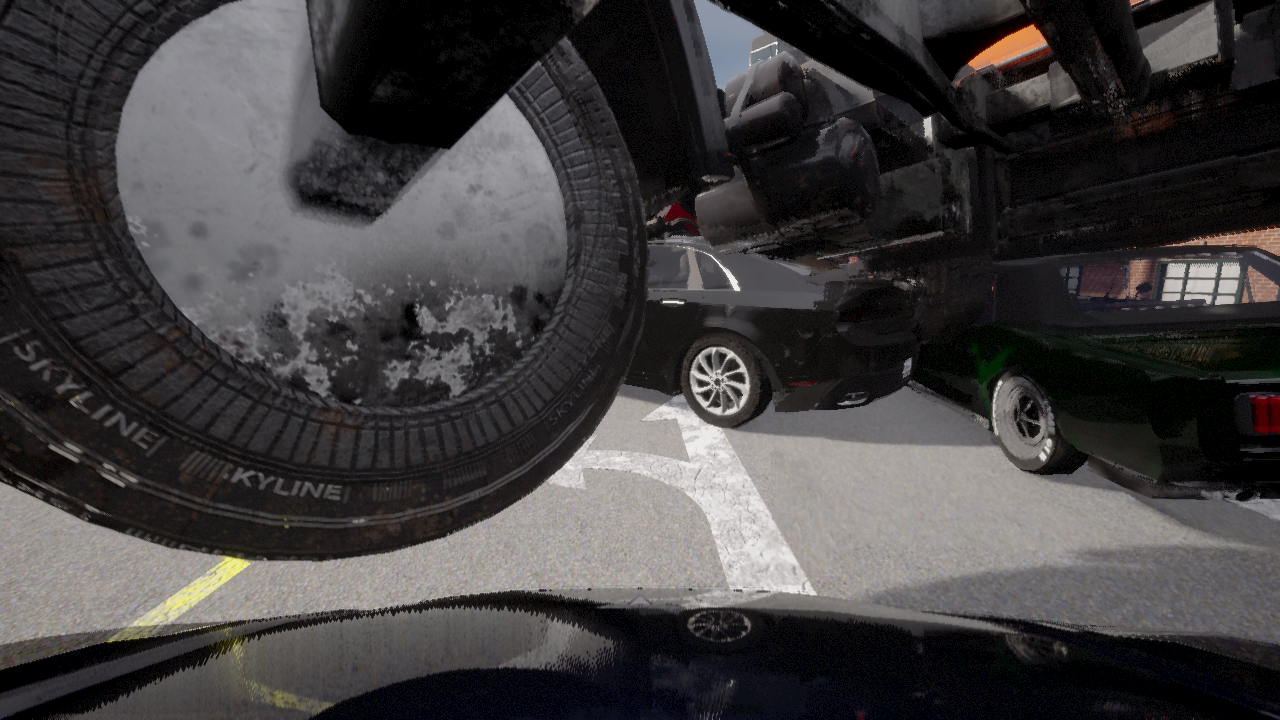cyclist: (0, 588, 1279, 719), (906, 245, 1279, 500), (623, 236, 919, 427), (645, 197, 701, 238)
